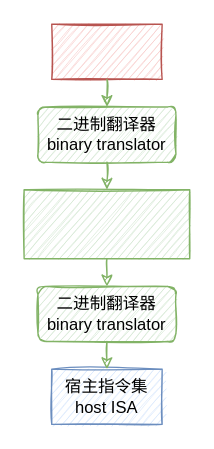
Some shapes in this 214 by 449 pixel diagram are drawn without their labels. The shapes that lost their labels are listed below. From the top down, each one's centre as x and y in pixels, then its label:
At pixel 106 51: "客户指令集 guest ISA".
At pixel 106 223: "中间表示 intermediate representation (IR)".
